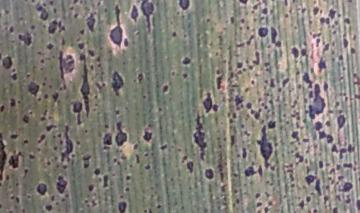tarspot: (256, 126, 275, 170), (190, 112, 207, 161), (79, 59, 92, 118), (107, 4, 123, 51), (304, 83, 325, 116), (56, 46, 74, 83), (60, 123, 74, 166), (140, 1, 158, 34), (108, 69, 125, 97), (114, 119, 129, 150), (269, 23, 284, 49), (16, 29, 34, 49), (7, 149, 22, 172), (33, 4, 51, 23), (83, 10, 98, 32), (54, 174, 68, 196), (69, 101, 83, 123), (25, 79, 42, 97), (201, 90, 213, 115), (336, 180, 356, 195), (338, 144, 357, 159), (300, 69, 313, 90), (288, 127, 302, 145), (1, 134, 6, 182), (46, 18, 60, 35), (100, 129, 113, 147), (250, 50, 263, 68), (292, 147, 305, 165), (140, 129, 155, 144), (243, 163, 257, 179), (35, 181, 48, 198), (177, 1, 194, 14), (316, 55, 328, 73), (114, 199, 129, 213), (127, 4, 138, 23), (227, 131, 238, 150), (1, 54, 14, 70), (184, 157, 196, 174), (288, 44, 300, 61), (336, 112, 346, 132), (278, 76, 293, 89), (81, 151, 91, 170), (135, 70, 146, 87), (203, 167, 216, 181), (213, 75, 225, 90), (297, 196, 307, 213), (36, 131, 48, 145), (180, 55, 193, 67), (18, 112, 30, 125), (257, 25, 269, 38), (142, 161, 154, 174), (7, 22, 17, 37), (8, 95, 17, 111), (42, 201, 54, 213), (25, 150, 37, 162), (48, 91, 61, 102), (310, 4, 321, 17), (321, 42, 332, 55), (304, 172, 314, 186), (233, 93, 241, 110), (7, 72, 19, 83), (45, 123, 57, 134), (43, 41, 56, 51), (315, 130, 328, 140), (258, 6, 271, 16), (335, 50, 345, 63), (300, 45, 308, 61), (169, 27, 178, 41), (328, 7, 337, 21), (266, 119, 277, 130), (75, 40, 86, 51), (243, 99, 254, 110), (157, 141, 168, 152), (313, 120, 323, 132), (21, 136, 31, 148), (70, 11, 82, 21), (213, 101, 221, 116), (239, 147, 248, 160), (85, 49, 98, 58), (268, 76, 276, 90), (84, 181, 95, 191), (253, 190, 263, 201), (342, 195, 353, 205), (160, 84, 170, 94), (233, 59, 243, 69), (340, 37, 350, 47), (341, 16, 351, 26), (123, 172, 133, 182), (92, 166, 101, 177), (9, 131, 18, 141), (180, 70, 189, 80), (254, 200, 264, 209), (122, 37, 129, 49), (349, 45, 356, 57), (316, 159, 324, 169), (331, 205, 340, 213), (1, 103, 6, 116), (102, 173, 105, 192)
